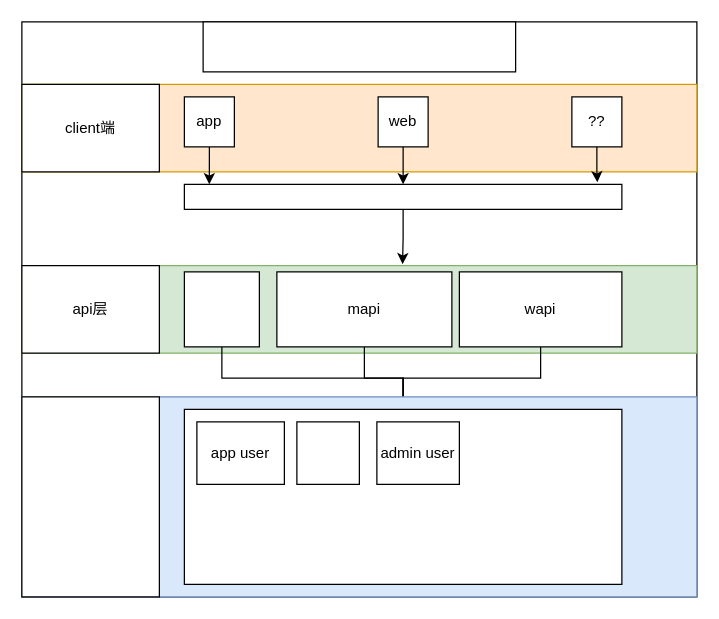
The diagram is 719 pixels wide and 619 high, and some of its shapes have lost their labels. The shapes that lost their labels are listed below. From the top down, each one's centre as x and y in pixels, then its label:
At pixel 359 46: "StarWishApi架构".
At pixel 402 196: "kong gateway".
At pixel 221 309: "public".
At pixel 327 452: "enum".
At pixel 90 496: "service层".
